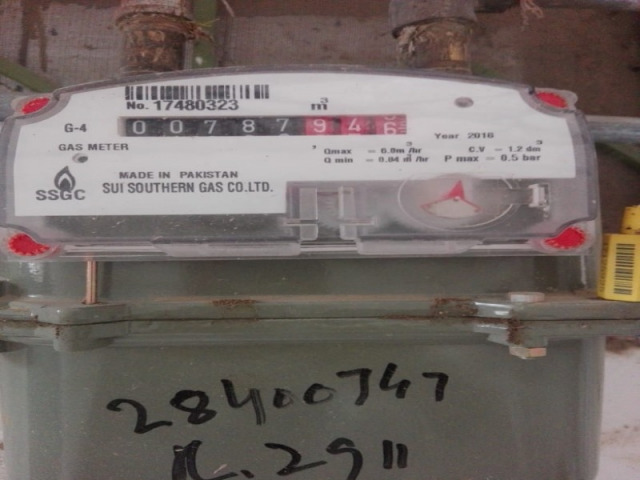ssgc: (110, 111, 414, 141)
